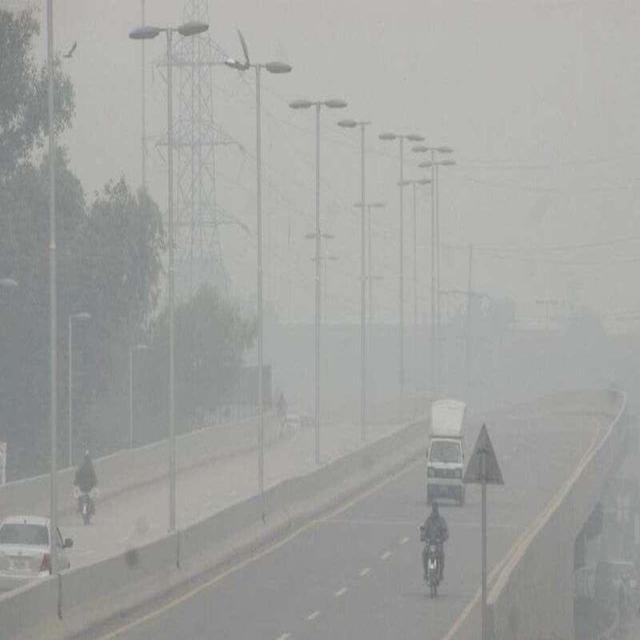Car: (0, 510, 63, 591)
Cycle: (416, 508, 451, 586), (74, 454, 98, 540)
Truck: (421, 410, 473, 500)
